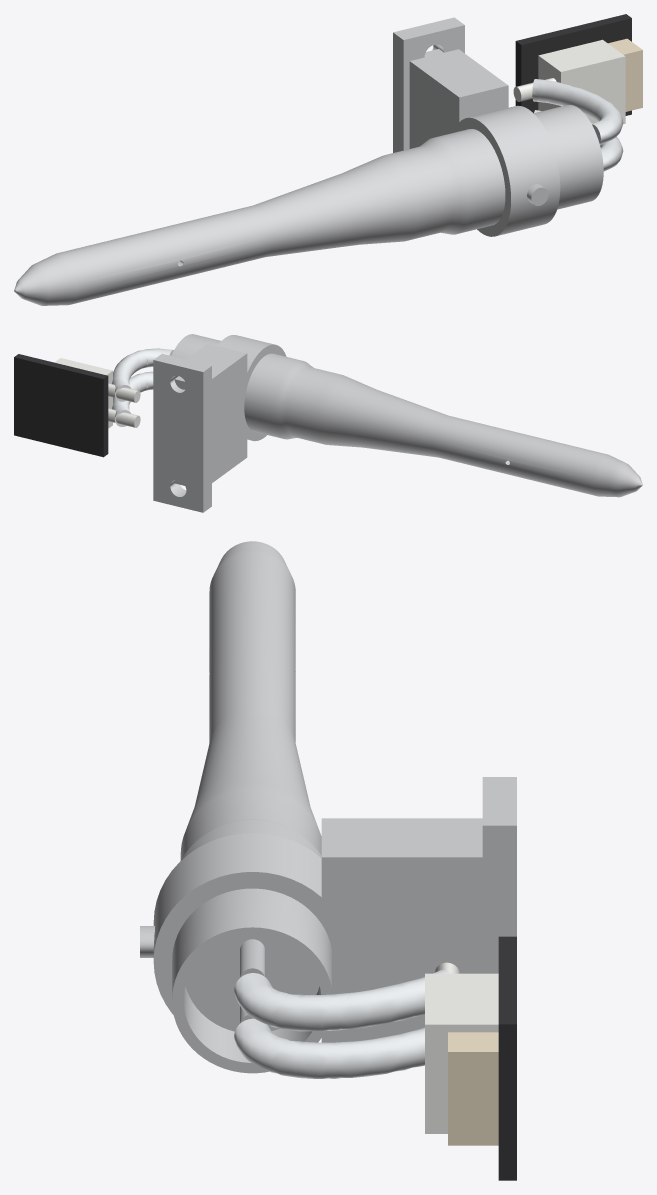
Rendered from airspeed.glb.
3 renders of one model, top to bottom at view 1: azimuth 30°, elevation 25°; view 2: azimuth 150°, elevation 25°; view 3: azimuth 270°, elevation 25°, orthographic. The views are drawn at different scales.
Parts seen in each view (by area): view 1: c_ccced3, c_edede5, pcb_black, c_d8e0e5, c_e0c699; view 2: c_ccced3, pcb_black, c_d8e0e5, c_edede5; view 3: c_ccced3, c_d8e0e5, c_edede5, c_e0c699, pcb_black, steel.
Boxes of the visible parts, x1,y1,x2,y2 form: c_ccced3: [14, 17, 603, 305]; c_edede5: [513, 39, 625, 124]; pcb_black: [515, 14, 631, 115]; c_d8e0e5: [532, 79, 623, 171]; c_e0c699: [608, 38, 642, 111]; c_ccced3: [153, 334, 642, 512]; pcb_black: [14, 354, 108, 457]; c_d8e0e5: [112, 348, 173, 426]; c_edede5: [54, 358, 140, 428]; c_ccced3: [153, 541, 516, 1073]; c_d8e0e5: [234, 969, 451, 1078]; c_edede5: [425, 962, 498, 1133]; c_e0c699: [448, 1032, 498, 1145]; pcb_black: [498, 936, 516, 1180]; steel: [140, 926, 265, 1023].
Size of the model in its own units: 0.113 by 0.027 by 0.0328.
